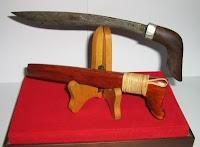espada: (4, 7, 192, 90)
